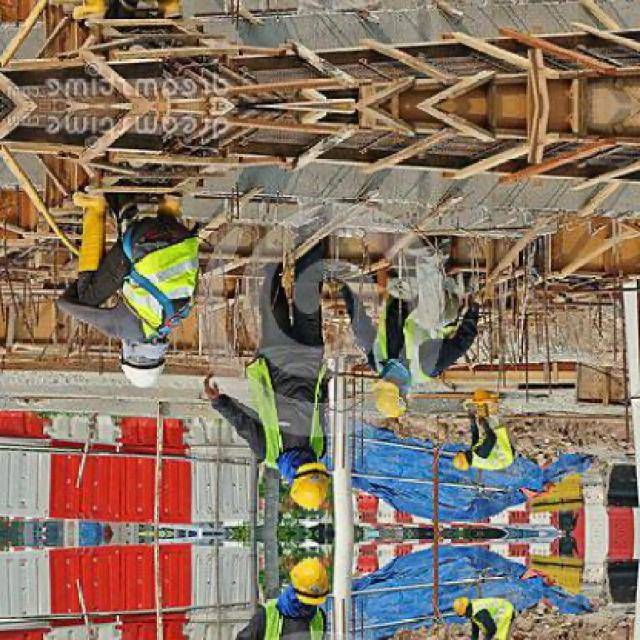con casco: (66, 298, 186, 405), (263, 538, 353, 620), (291, 437, 372, 524), (362, 351, 433, 424), (447, 448, 497, 488)
